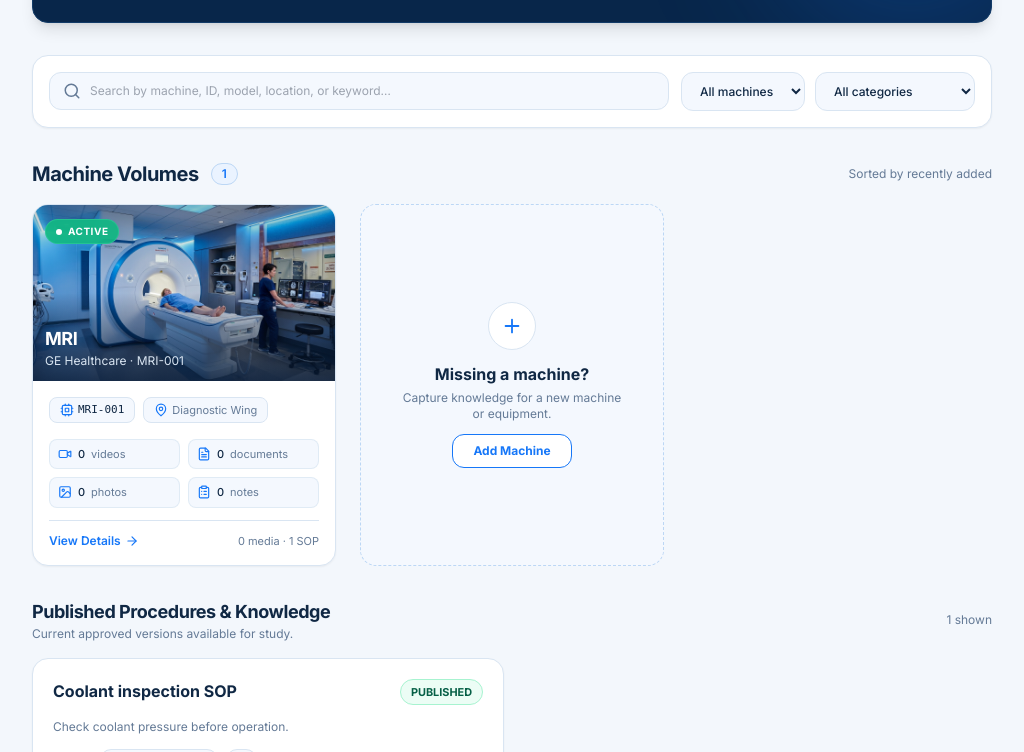
Test case: Machine diary library › shows an active machine with published SOPs even when it has no media files
This screenshot has width=1024, height=752.
(page scrolled)
Expected: the text "0 media · 1 SOP" is shown, left=238, top=532, right=319, bottom=548
Click the button with aria-label "Open knowledge diary for MRI" at (184, 292), box left=32, top=204, right=336, bottom=566
(page scrolled)
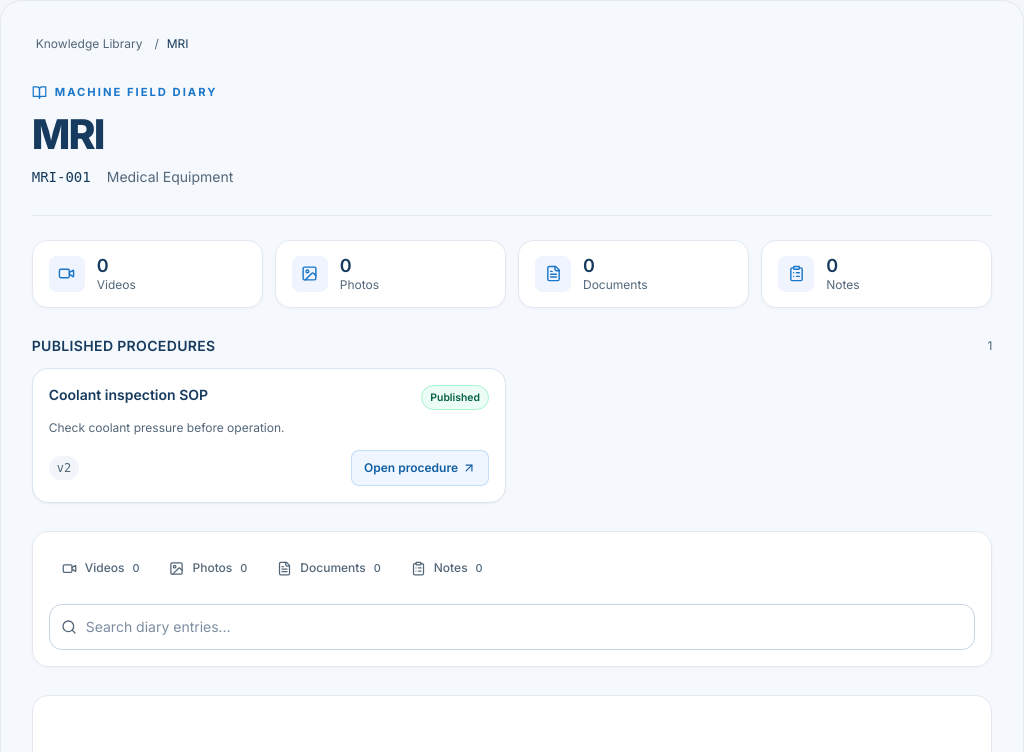
Expected: the heading "Coolant inspection SOP" is shown, left=49, top=385, right=208, bottom=405
Expected: the element "PUBLISHED PROCEDURES" is shown, left=32, top=336, right=992, bottom=503
